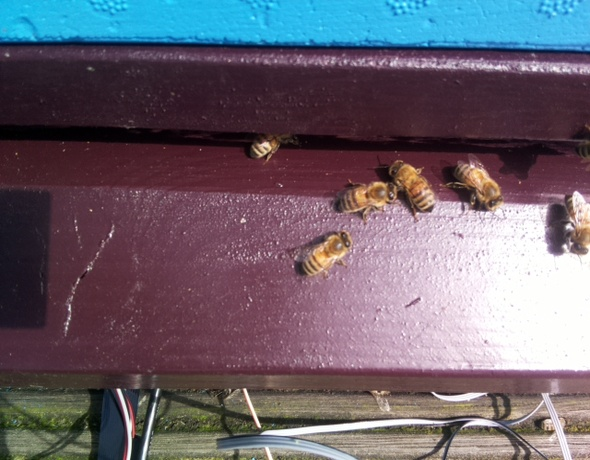no_pollen: (386, 158, 438, 217), (333, 178, 401, 221), (450, 158, 503, 213), (299, 228, 356, 279), (559, 188, 590, 260), (245, 125, 300, 164)
